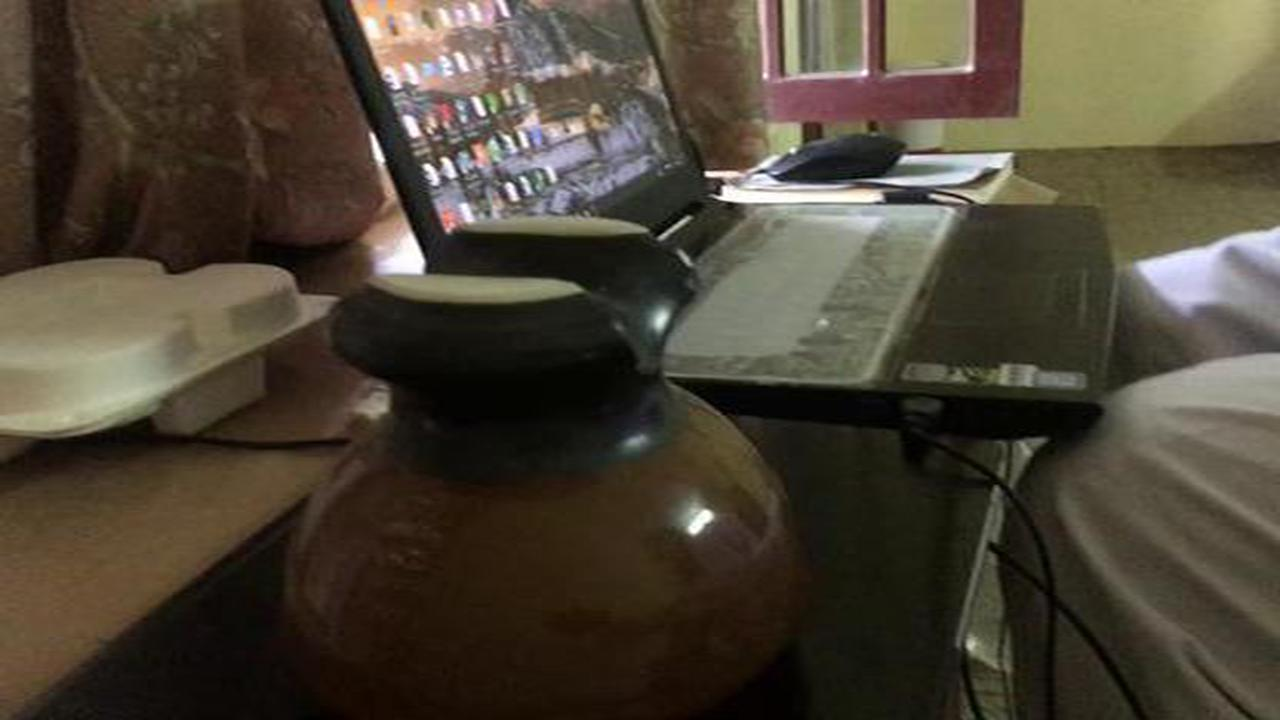insulator_pin: (259, 200, 841, 712)
